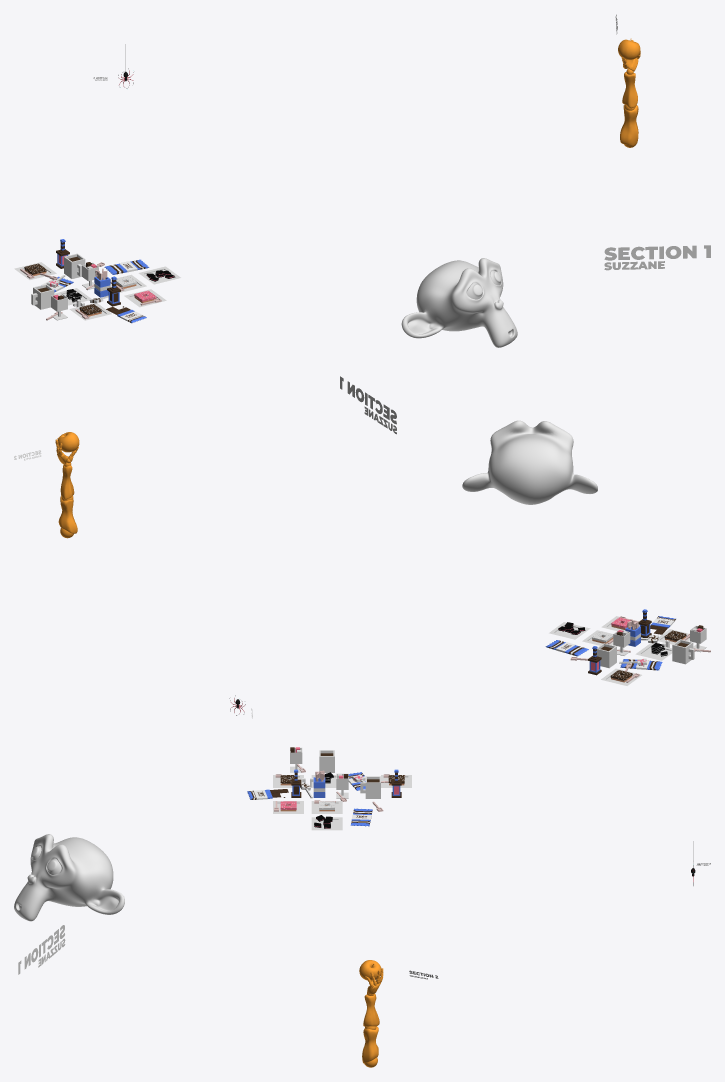
File: Animation-19a55485.gltf
The picture shows the model from 3 angles, top to bottom: view 1: azimuth 30°, elevation 25°; view 2: azimuth 150°, elevation 25°; view 3: azimuth 270°, elevation 25°; orthographic projection. The views are drawn at different scales.
Visible parts, largest first — view 1: Suzanne, Party, Apple, Text; view 2: Suzanne, Party, Apple; view 3: Suzanne, Party, Apple.
Part boxes in pixels (x1,y1,x2,y2): Suzanne: [401, 258, 517, 347]; Party: [14, 239, 180, 323]; Apple: [618, 38, 640, 147]; Text: [604, 245, 710, 260]; Suzanne: [462, 420, 597, 504]; Party: [545, 609, 710, 685]; Apple: [55, 432, 79, 538]; Suzanne: [14, 834, 124, 921]; Party: [247, 747, 411, 830]; Apple: [359, 960, 383, 1067].
Bounding box in the file's own units: 14.14 × 2.26 × 13.58.
